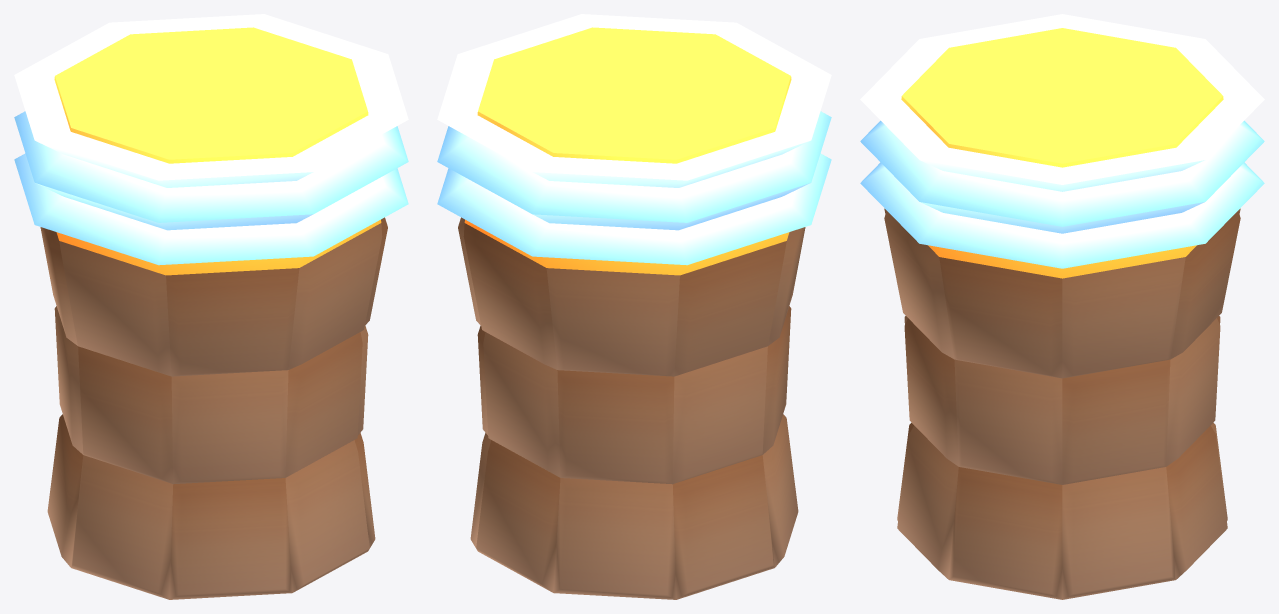
Rendered from gold_and_steel_grip_050.glb.
3 renders of one model, left to right at view 1: azimuth 30°, elevation 25°; view 2: azimuth 150°, elevation 25°; view 3: azimuth 270°, elevation 25°, orthographic.
Parts seen in each view (by area): view 1: gold_and_steel_grip_050; view 2: gold_and_steel_grip_050; view 3: gold_and_steel_grip_050.
Boxes of the visible parts, x1,y1,x2,y2 form: gold_and_steel_grip_050: (14,14,408,599); gold_and_steel_grip_050: (437,14,831,599); gold_and_steel_grip_050: (860,14,1264,599).
Bounding box in the file's own units: 2.52 × 3 × 2.52.
1 material, 1 textured.
